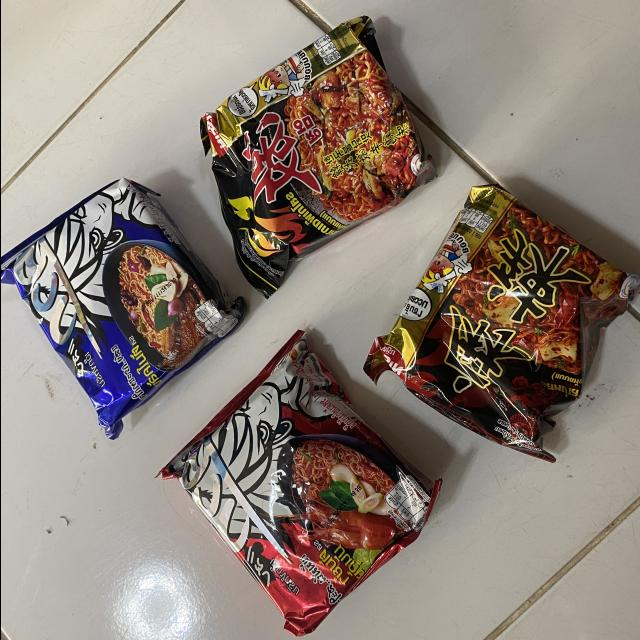plastik: (159, 330, 440, 635), (363, 185, 640, 462), (199, 16, 436, 298), (0, 178, 244, 439)
